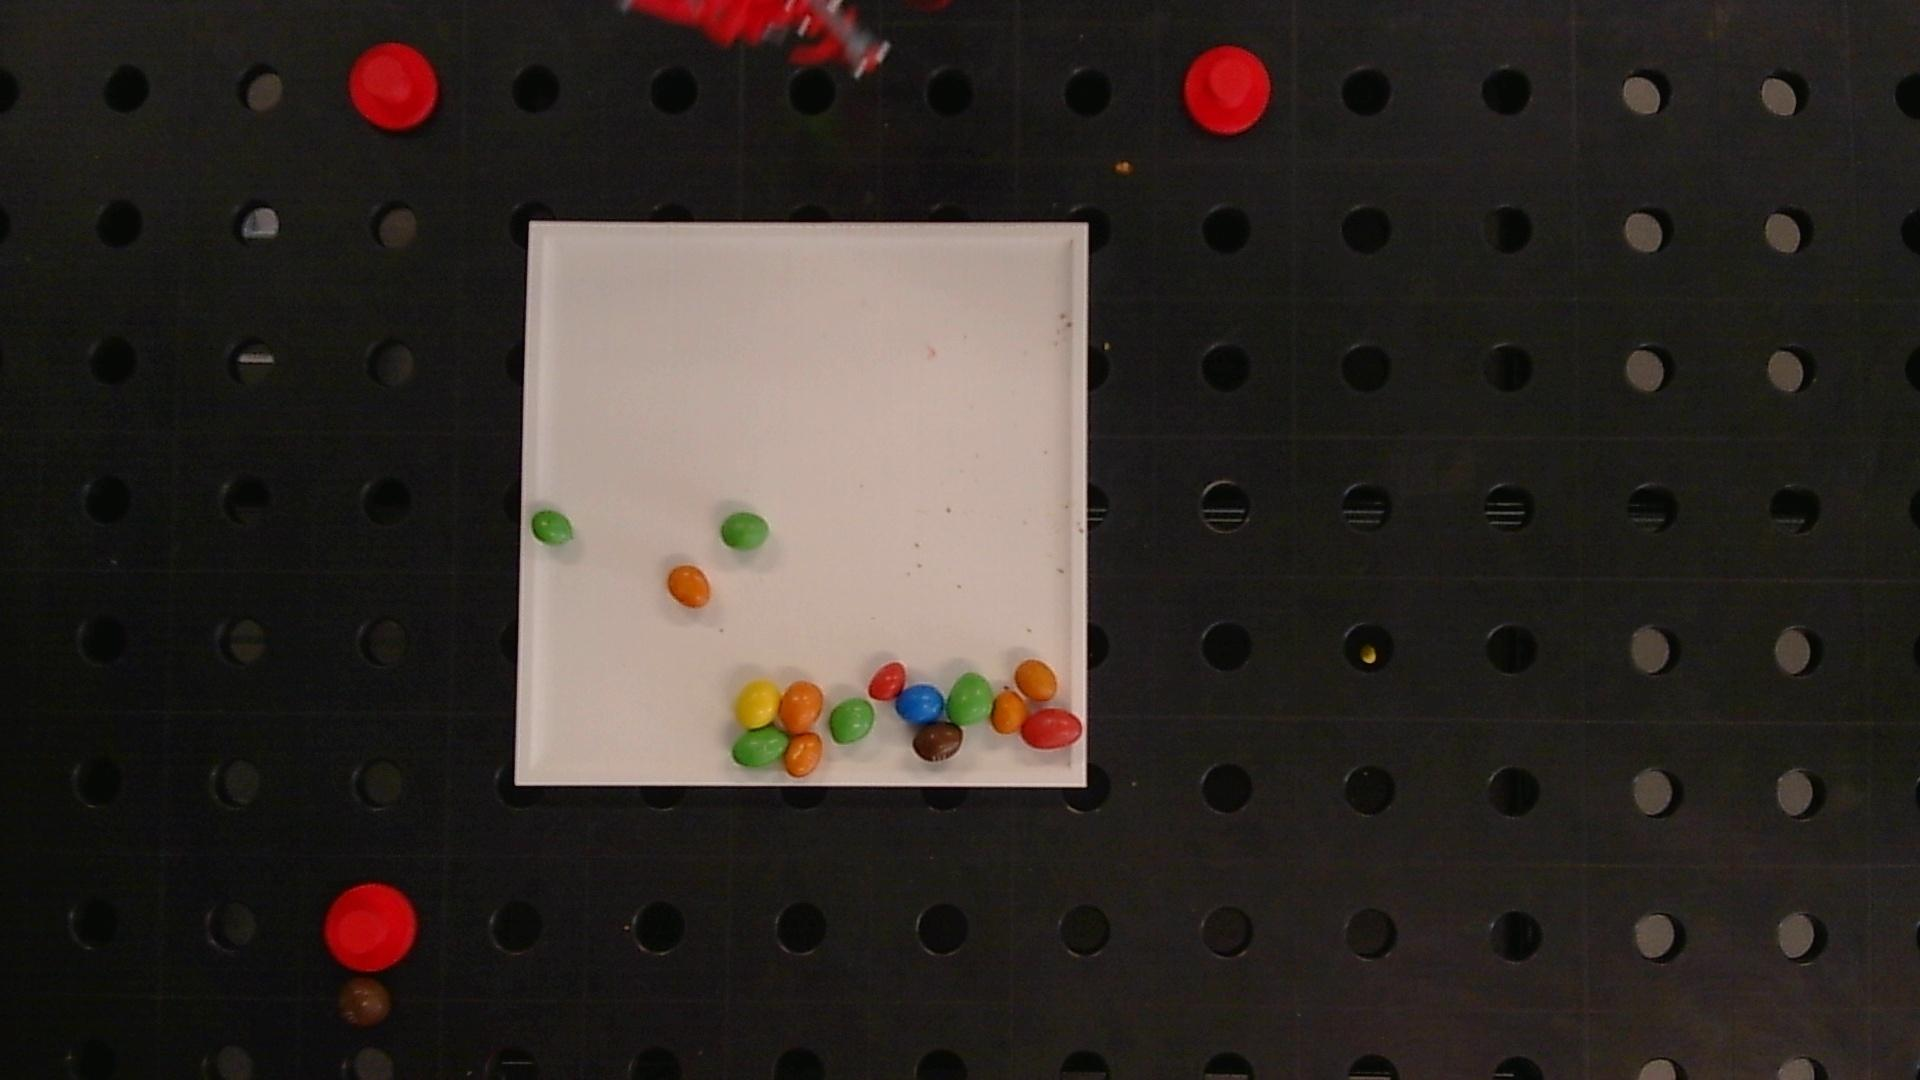blue: (895, 683, 944, 724)
brown: (913, 723, 964, 761)
green: (947, 673, 993, 724), (732, 728, 787, 767), (829, 698, 874, 744), (720, 513, 770, 550), (530, 510, 574, 546)
orange: (779, 680, 823, 732), (667, 564, 711, 608), (1015, 658, 1058, 702), (785, 732, 822, 777), (992, 690, 1026, 733)
red: (1021, 709, 1083, 748), (868, 661, 905, 700)
yellow: (737, 679, 781, 729)
